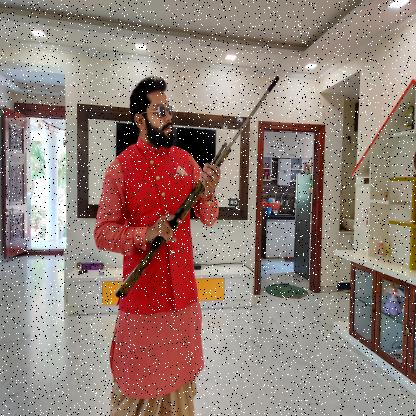rifle: (113, 74, 282, 300)
